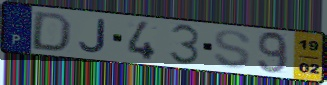3: (167, 23, 202, 67)
4: (126, 20, 158, 62)
9: (256, 30, 291, 76)
D: (29, 10, 74, 53)
J: (77, 18, 108, 55)
S: (212, 28, 253, 70)
